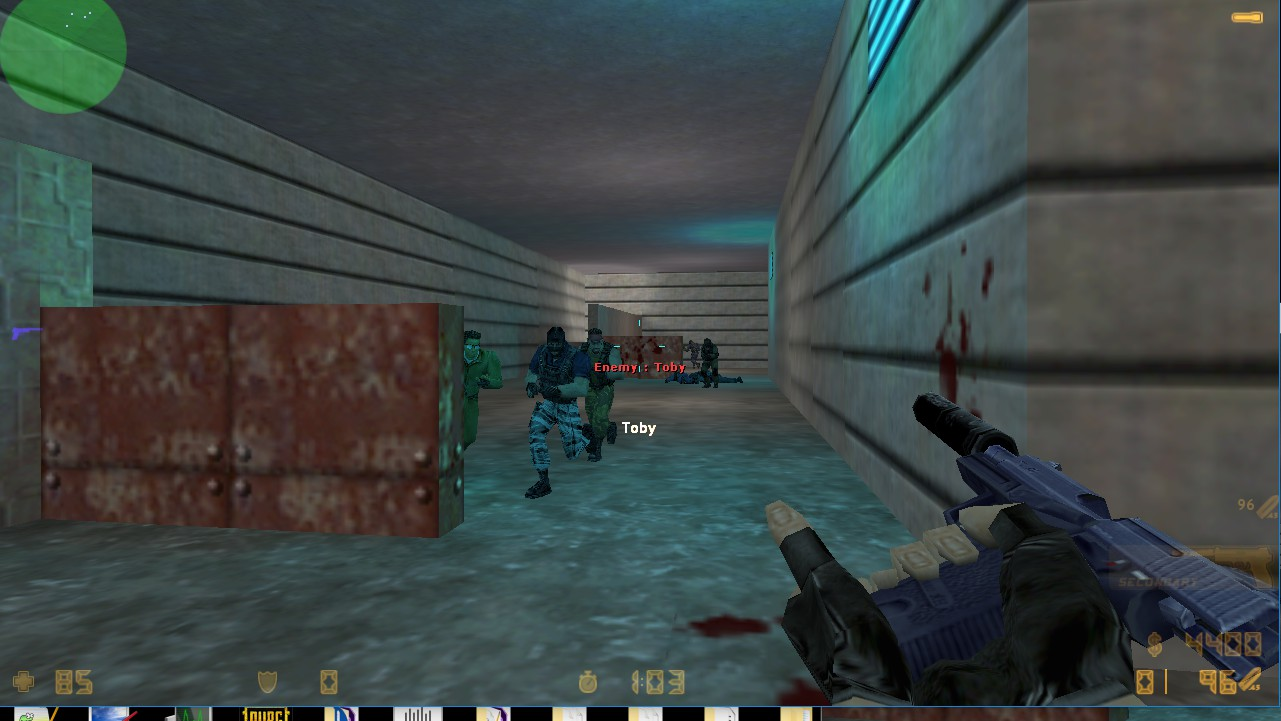person: (524, 324, 588, 505), (577, 324, 624, 466), (461, 327, 506, 451), (699, 337, 720, 390), (683, 336, 699, 369)
